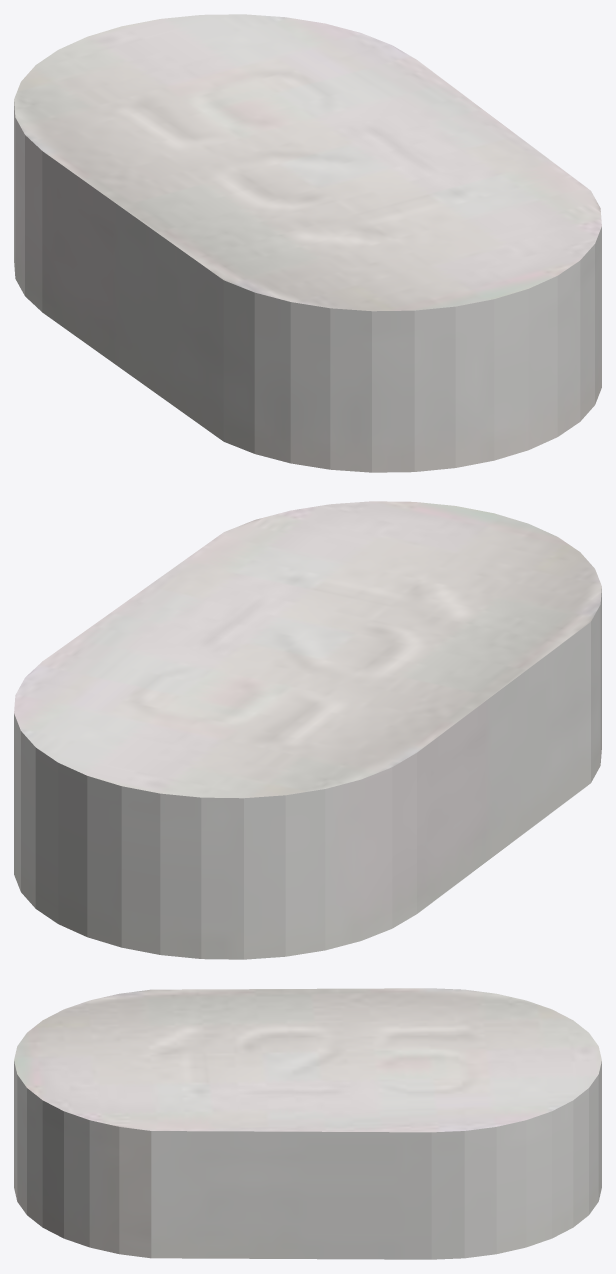
The picture shows the model from 3 angles, top to bottom: view 1: azimuth 30°, elevation 25°; view 2: azimuth 150°, elevation 25°; view 3: azimuth 270°, elevation 25°; orthographic projection. The views are drawn at different scales.
Parts seen in each view (by area): view 1: 圓柱體; view 2: 圓柱體; view 3: 圓柱體.
Boxes of the visible parts, box(x1,y1,x2,y2) form: 圓柱體: box(14, 14, 601, 472); 圓柱體: box(14, 501, 601, 959); 圓柱體: box(14, 988, 601, 1259).
Size of the model in its own units: 1.7 by 0.7007 by 2.93.
